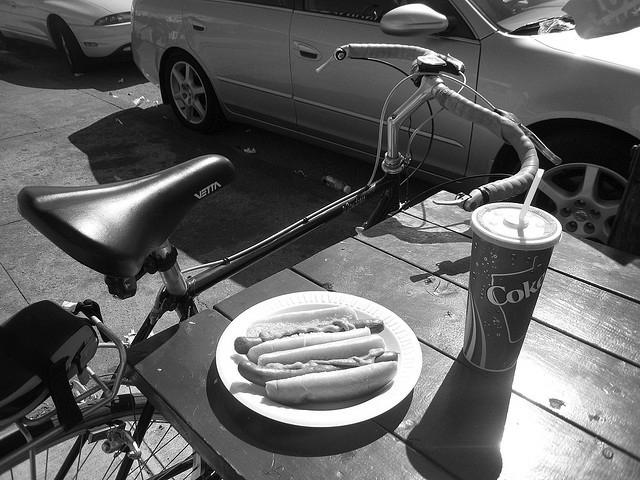glass: (461, 202, 561, 371)
